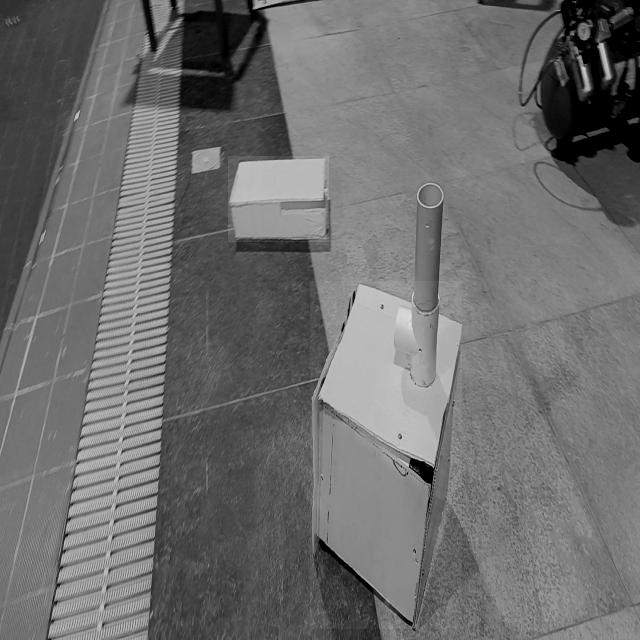Cube: (310, 281, 462, 629)
Cuboid: (228, 156, 329, 242)
